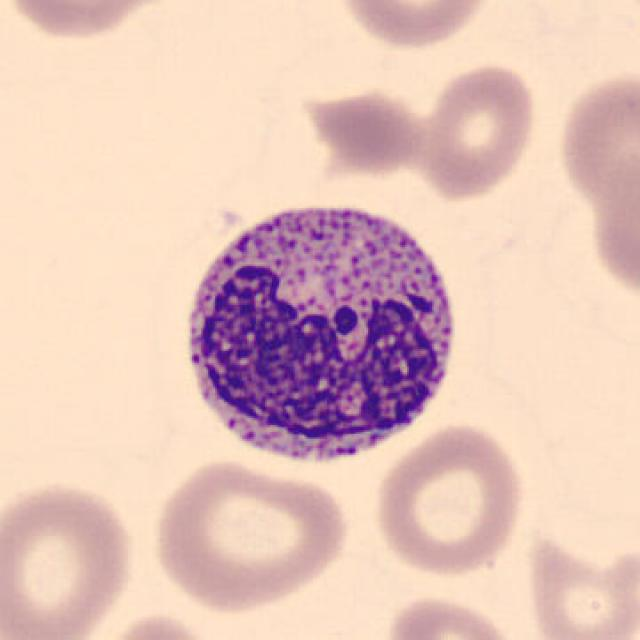Neutrophil: (165, 184, 473, 482)
RBC: (146, 455, 354, 615), (368, 420, 532, 578), (0, 474, 142, 640), (410, 60, 540, 203), (553, 65, 640, 224), (519, 529, 638, 640), (295, 83, 430, 176), (330, 0, 498, 53), (0, 0, 183, 44), (586, 152, 640, 296), (380, 590, 522, 640), (80, 610, 235, 640), (606, 0, 640, 39)
